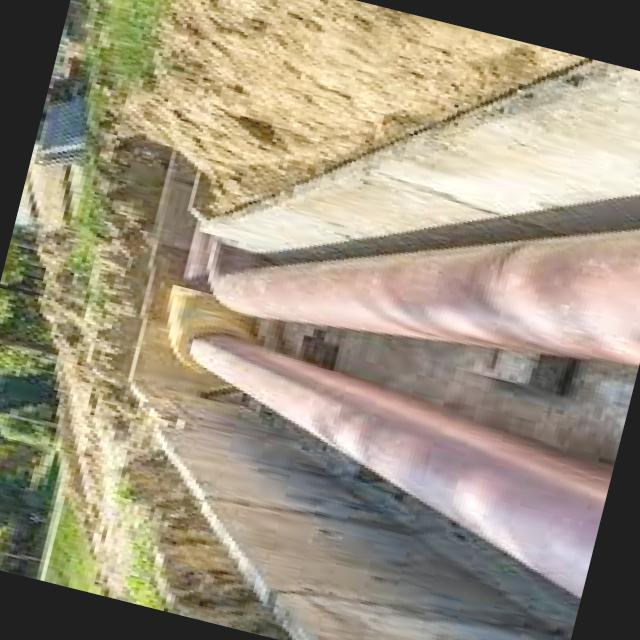gas: (169, 285, 613, 597), (210, 231, 640, 365), (183, 226, 211, 285)
